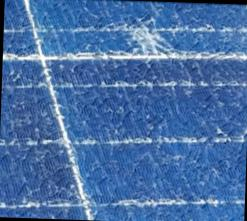Crack: (104, 14, 197, 90)
